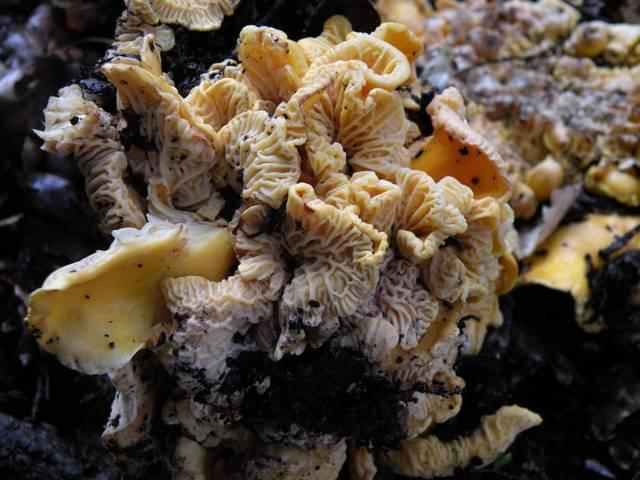edible_mushroom: (24, 0, 542, 479)
